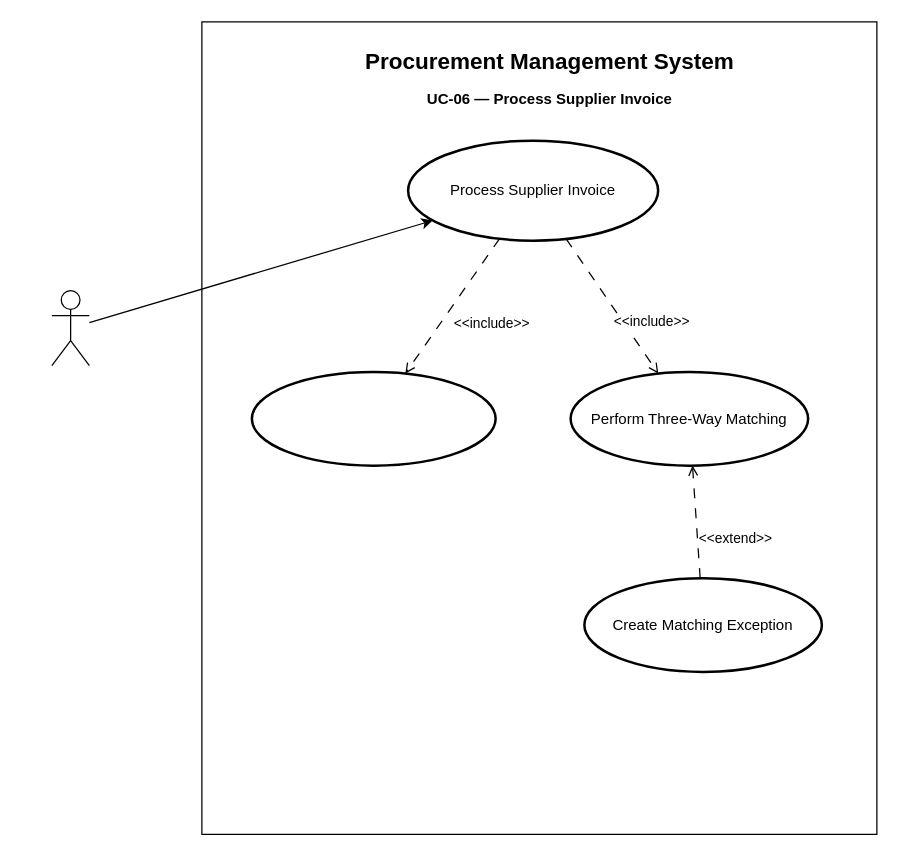
This 899x856 diagram has some shape labels left out. Here are the shapes that lost their labels. From the top down, the box of each, then its label:
(51, 289, 89, 366): AP Accountant
(250, 370, 496, 466): Link Invoice to Purchase Order
